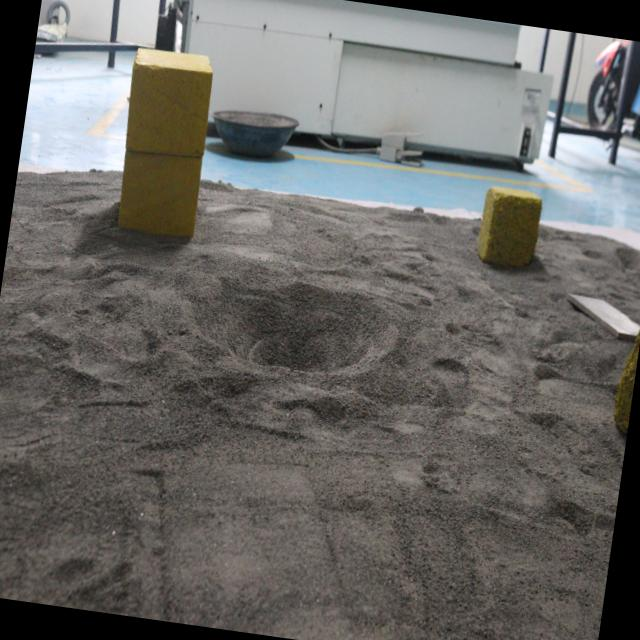box: (105, 38, 228, 254), (471, 182, 544, 284)
crater: (164, 258, 415, 414)
